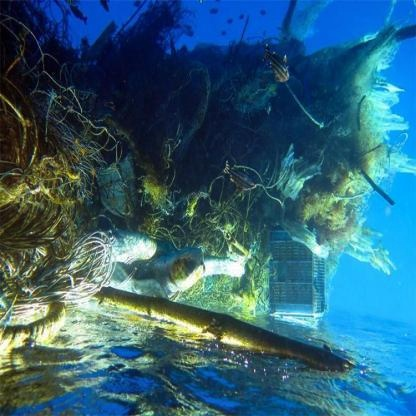net: (0, 64, 256, 349)
